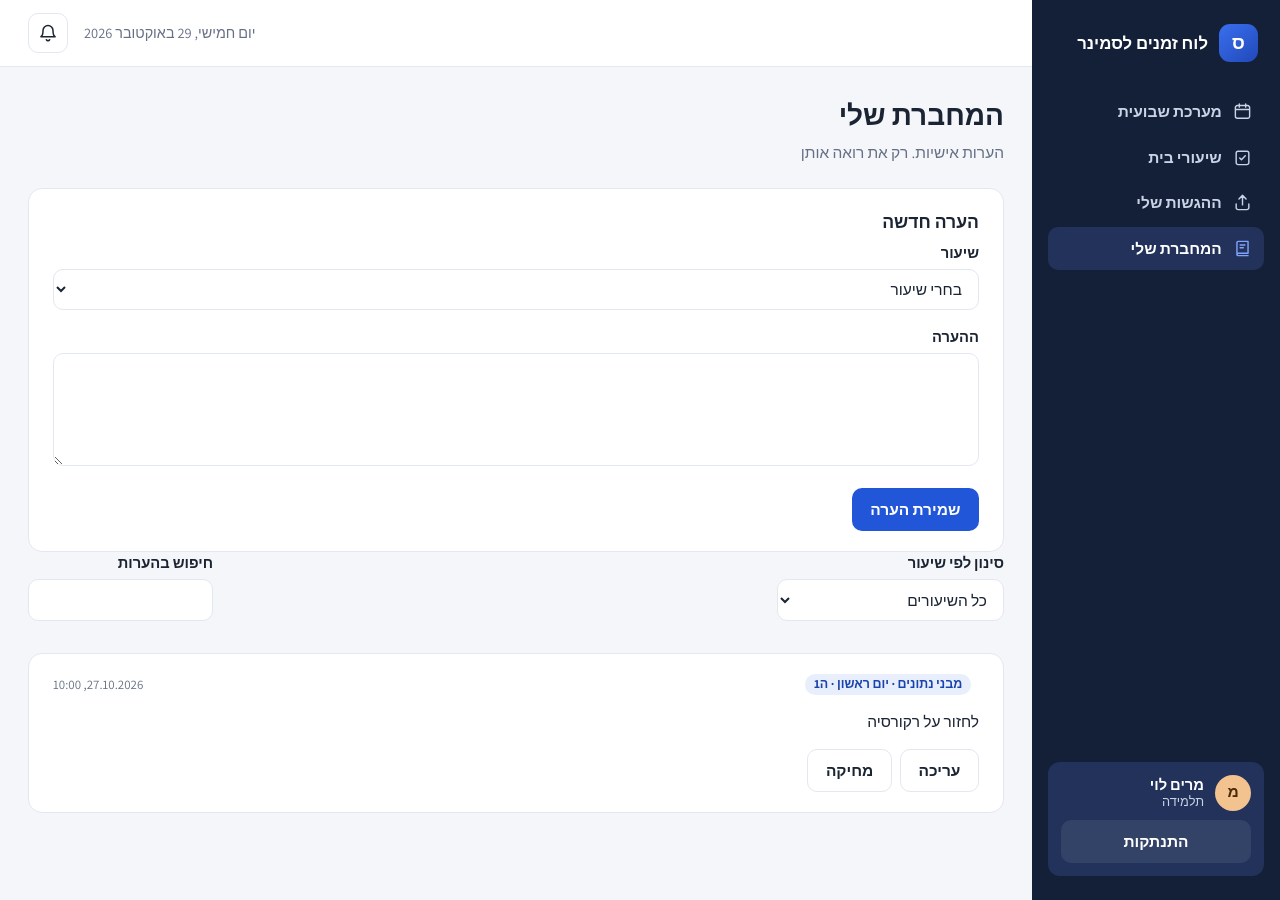
Test: מחברת אישית › עריכת הערה שולחת PATCH ומציגה את הטקסט החדש
Expected: the text "לחזור על רקורסיה" is shown, 867,711 -> 979,731
Click the button "עריכה". click: [939, 770]
box: 900,749 -> 979,792
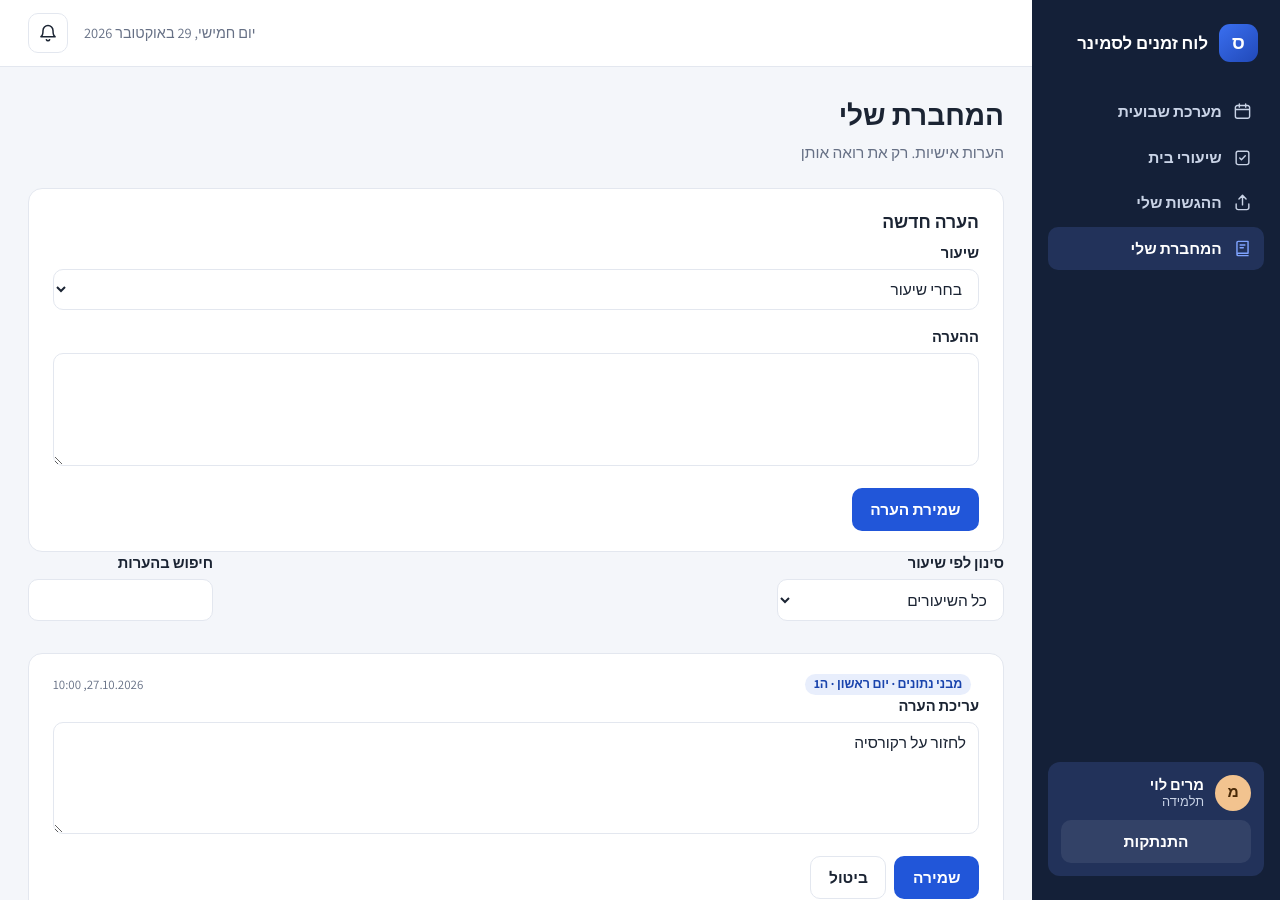
Expected: the text box labelled "עריכת הערה" holds "לחזור על רקורסיה"
Replace the text in the text box labelled "עריכת הערה" with "לחזור על רקורסיה ועל עצים". click: [516, 778]
box: 53,722 -> 979,834
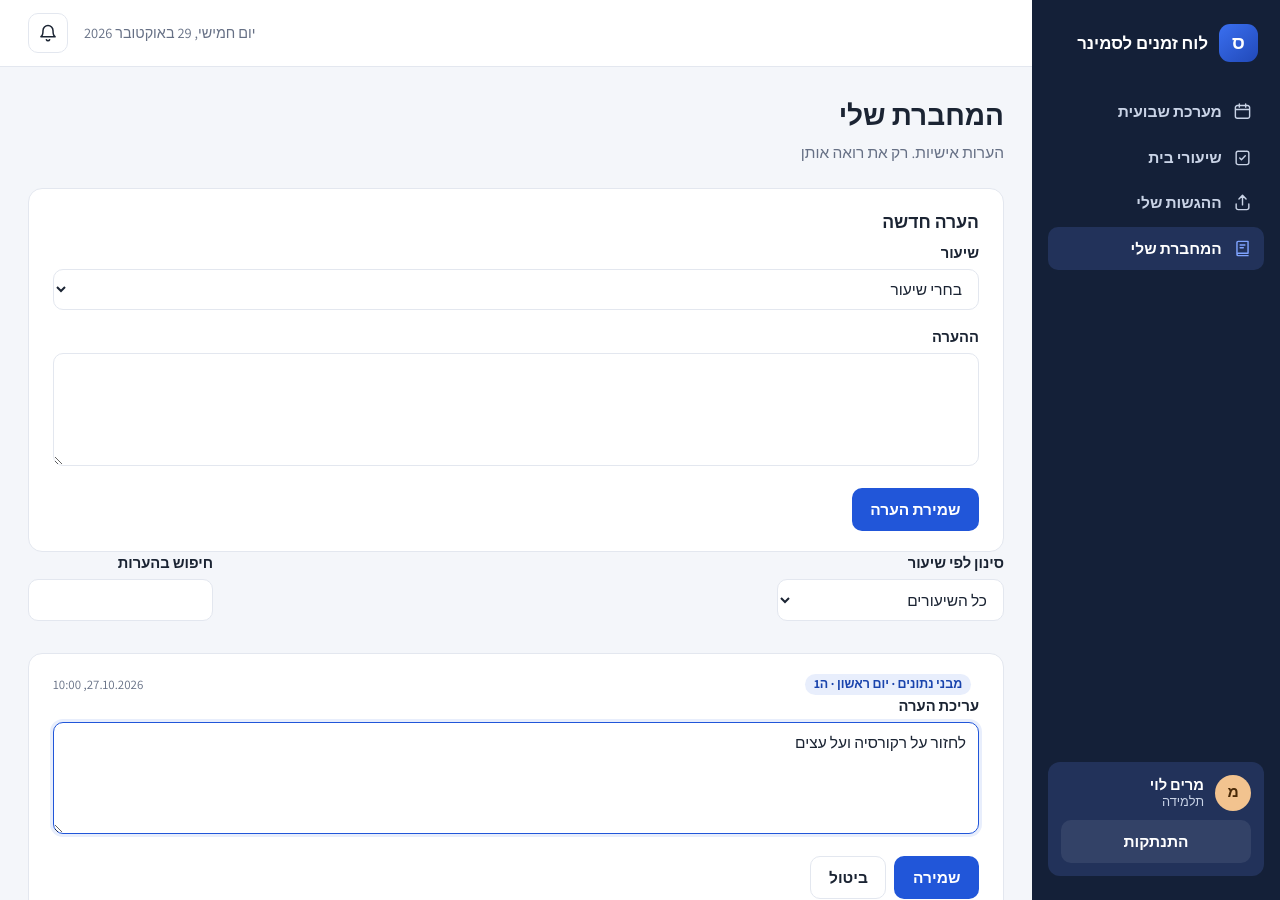
Click the button "שמירה". click: [937, 878]
box: 894,856 -> 979,899
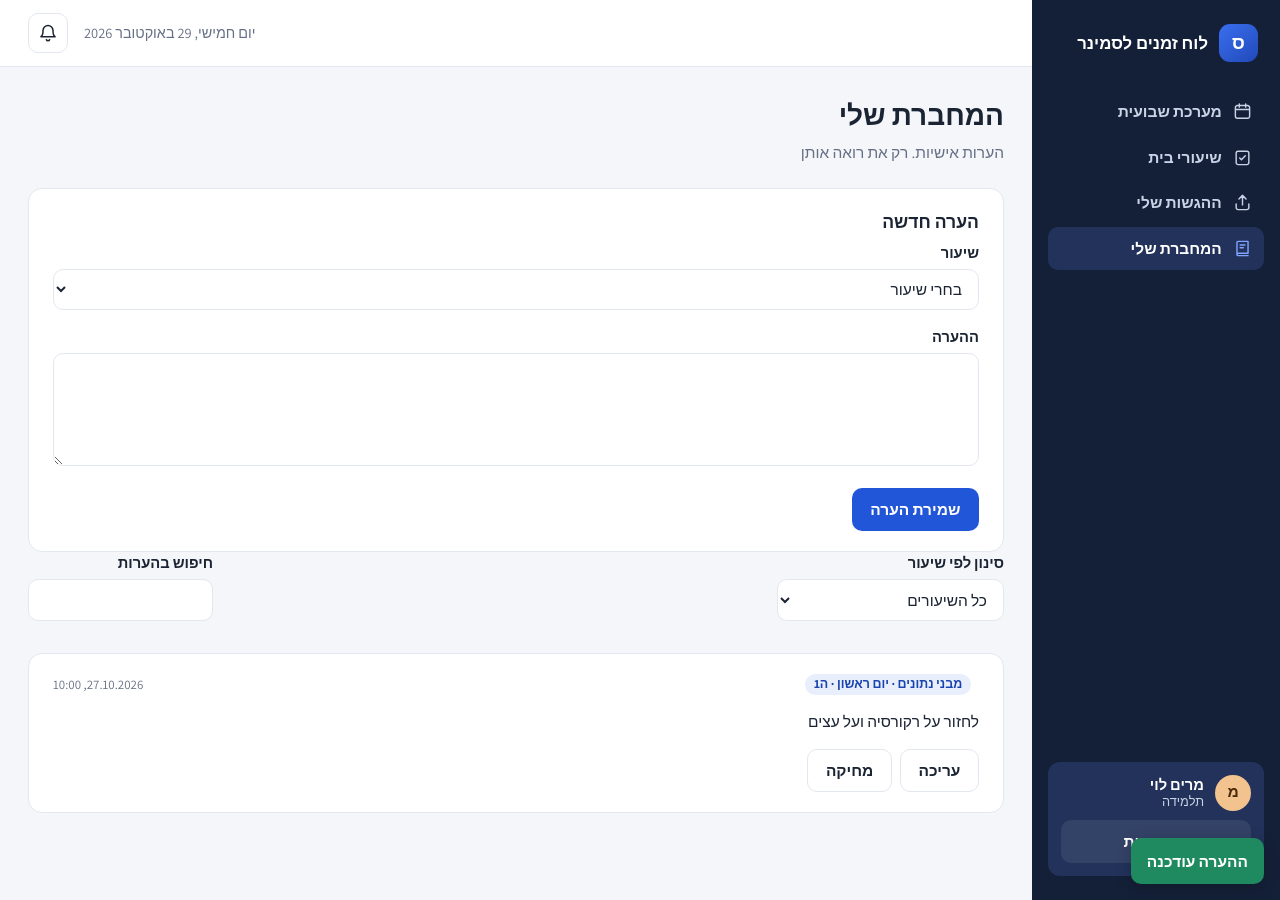
Expected: the text "ההערה עודכנה" is shown, 1131,838 -> 1264,884
Expected: the text "לחזור על רקורסיה ועל עצים" is shown, 808,711 -> 979,731
